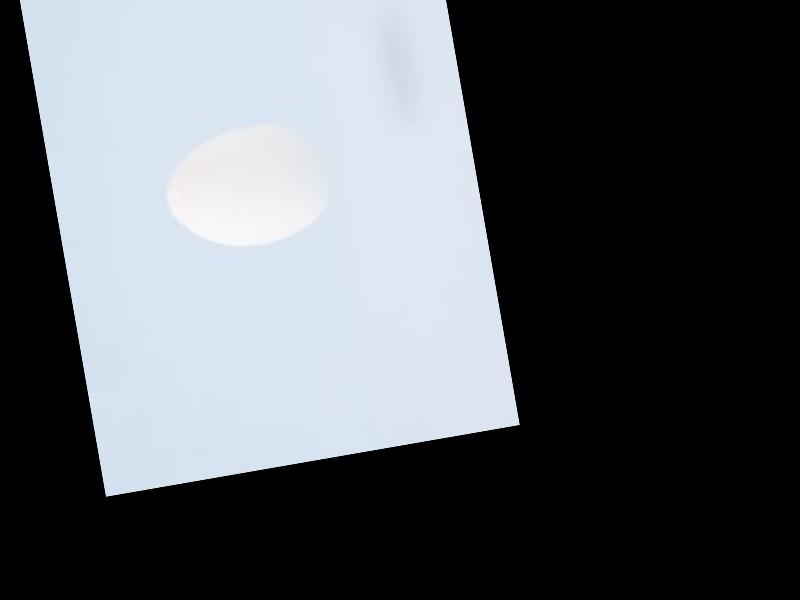Eggs: (156, 112, 342, 259)
